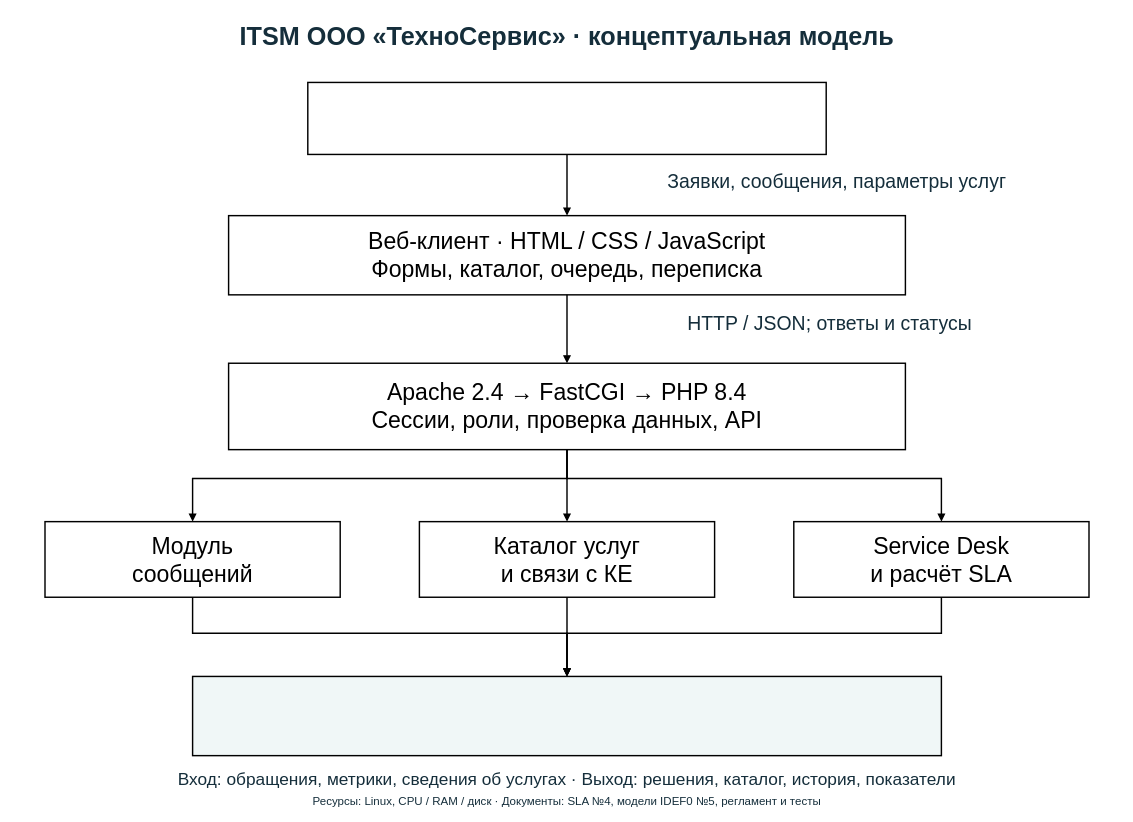
The diagram is 1133 pixels wide and 822 high, and some of its shapes have lost their labels. The shapes that lost their labels are listed below. From the top down, each one's centre as x and y in pixels, then its label:
At point 567,118: "Заказчик / сотрудник Поддержка · Администратор".
At point 567,715: "MariaDB 11.8 · пользователи, услуги, КЕ, связи, инциденты, история, сообщения".
